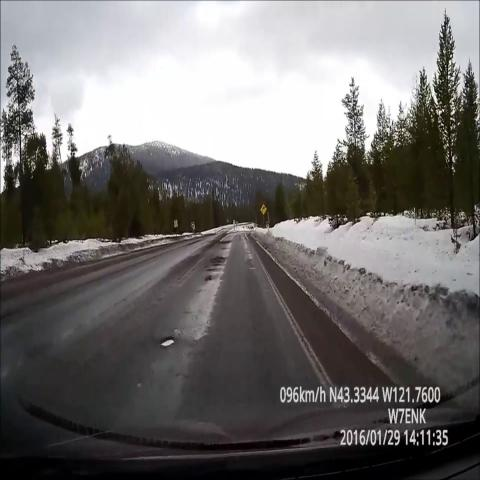pothole: (151, 320, 184, 371), (204, 253, 230, 270), (216, 231, 234, 248), (201, 269, 218, 286)
